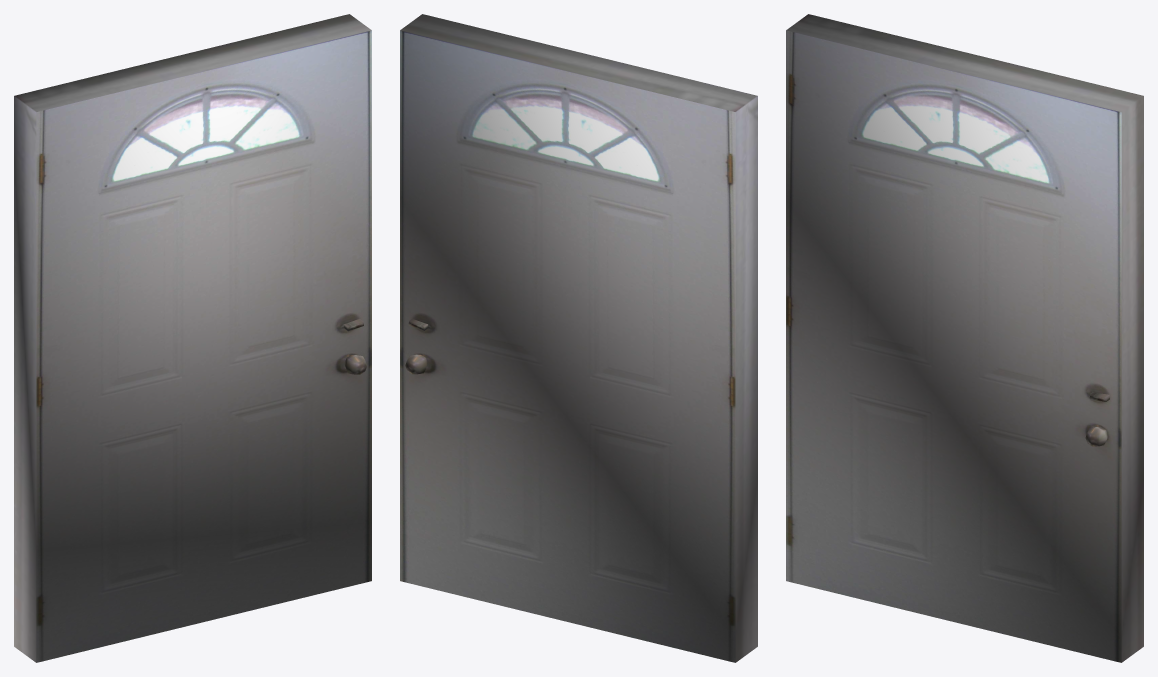
The model's file is Door.fbx.
The picture shows the model from 3 angles, left to right: view 1: azimuth 30°, elevation 25°; view 2: azimuth 150°, elevation 25°; view 3: azimuth 330°, elevation 25°; orthographic projection.
Parts seen in each view (by area): view 1: Door; view 2: Door; view 3: Door.
Part boxes in pixels (left/top/right/bottom): Door: left=14, top=14, right=371, bottom=662; Door: left=400, top=14, right=757, bottom=662; Door: left=786, top=14, right=1143, bottom=662.
Size of the model in its own units: 1.76 by 2.76 by 0.384.
